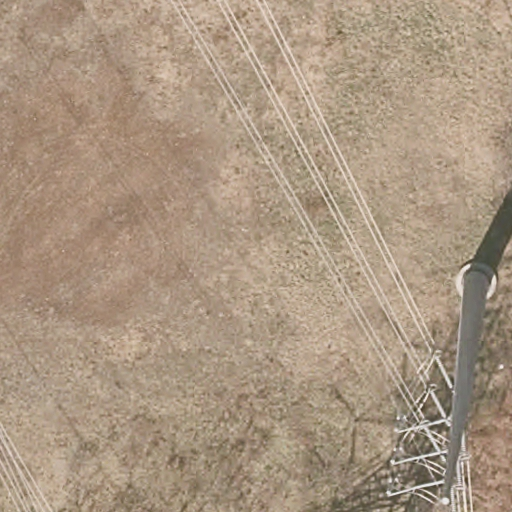TT: (387, 259, 498, 512)
